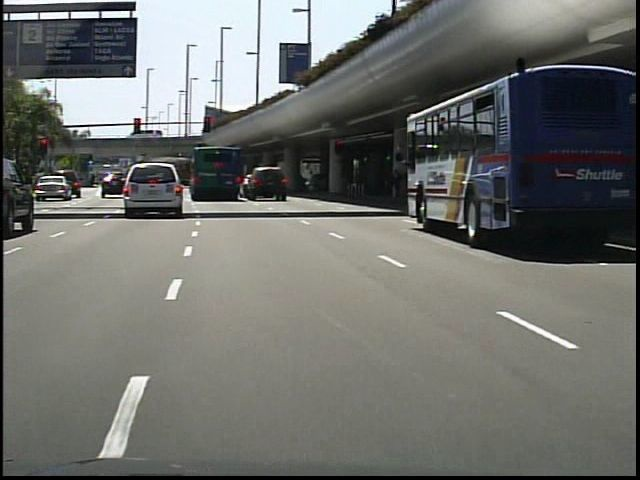person: (307, 162, 327, 199)
